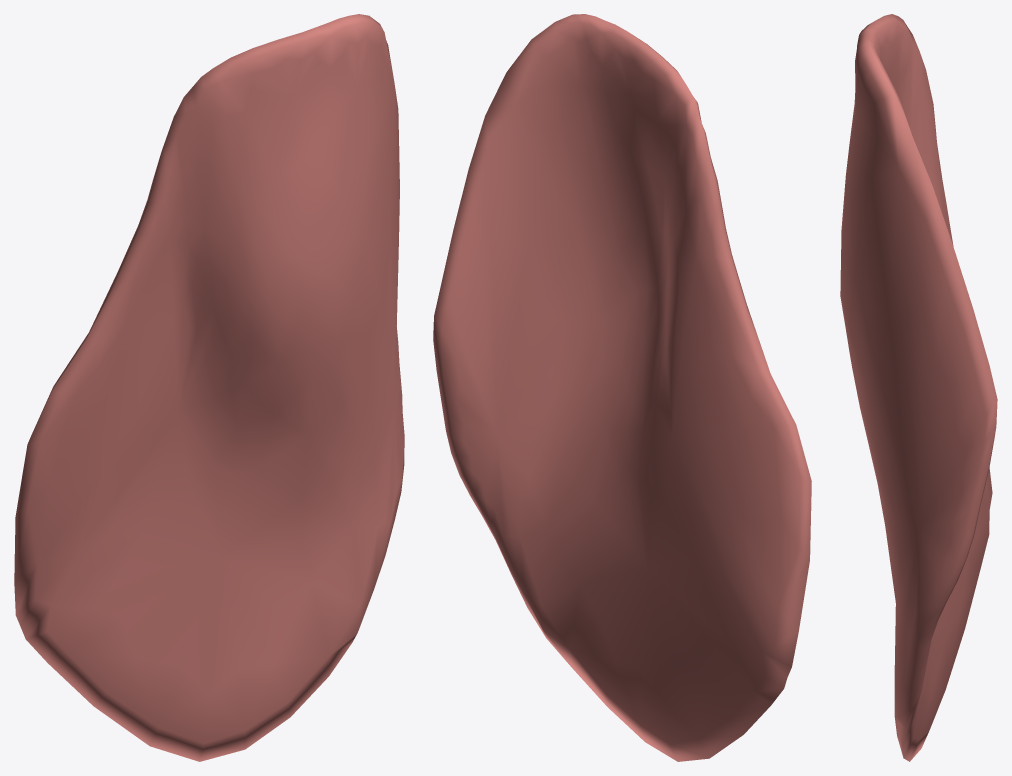
3 renders of one model, left to right at view 1: azimuth 30°, elevation 25°; view 2: azimuth 150°, elevation 25°; view 3: azimuth 270°, elevation 25°, orthographic. The views are drawn at different scales.
Parts seen in each view (by area): view 1: ZA_e9430dc193c50758; view 2: ZA_e9430dc193c50758; view 3: ZA_e9430dc193c50758.
Part boxes in pixels (left/top/right/bottom): ZA_e9430dc193c50758: left=14, top=14, right=404, bottom=761; ZA_e9430dc193c50758: left=433, top=14, right=811, bottom=761; ZA_e9430dc193c50758: left=840, top=14, right=997, bottom=761.
Size of the model in its own units: 0.00919 by 0.0168 by 0.00311.
